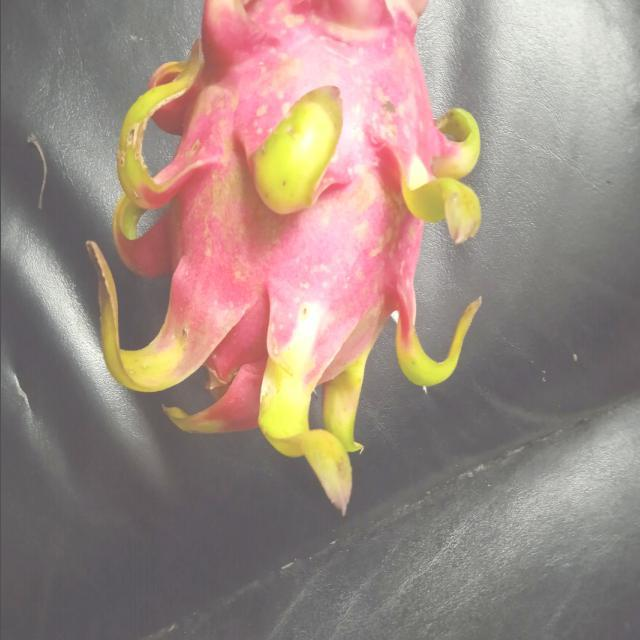do: (90, 0, 478, 515)
